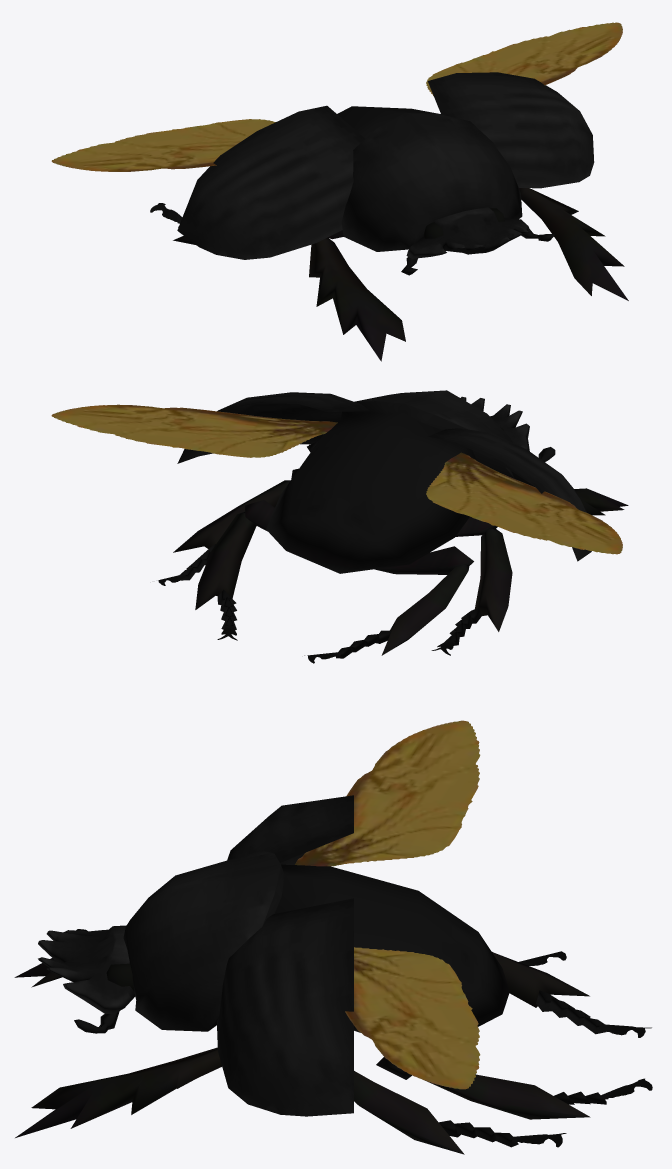
Rendered from dung-beetle.glb.
The picture shows the model from 3 angles, top to bottom: view 1: azimuth 30°, elevation 25°; view 2: azimuth 150°, elevation 25°; view 3: azimuth 270°, elevation 25°; orthographic projection. The views are drawn at different scales.
Size of the model in its own units: 6.23 by 1.41 by 4.06.
Materials: 2 (2 with a texture image).
